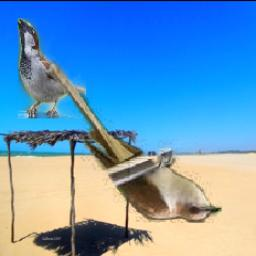Cuckoo: (47, 61, 223, 224)
Sparrow: (18, 18, 86, 118)
